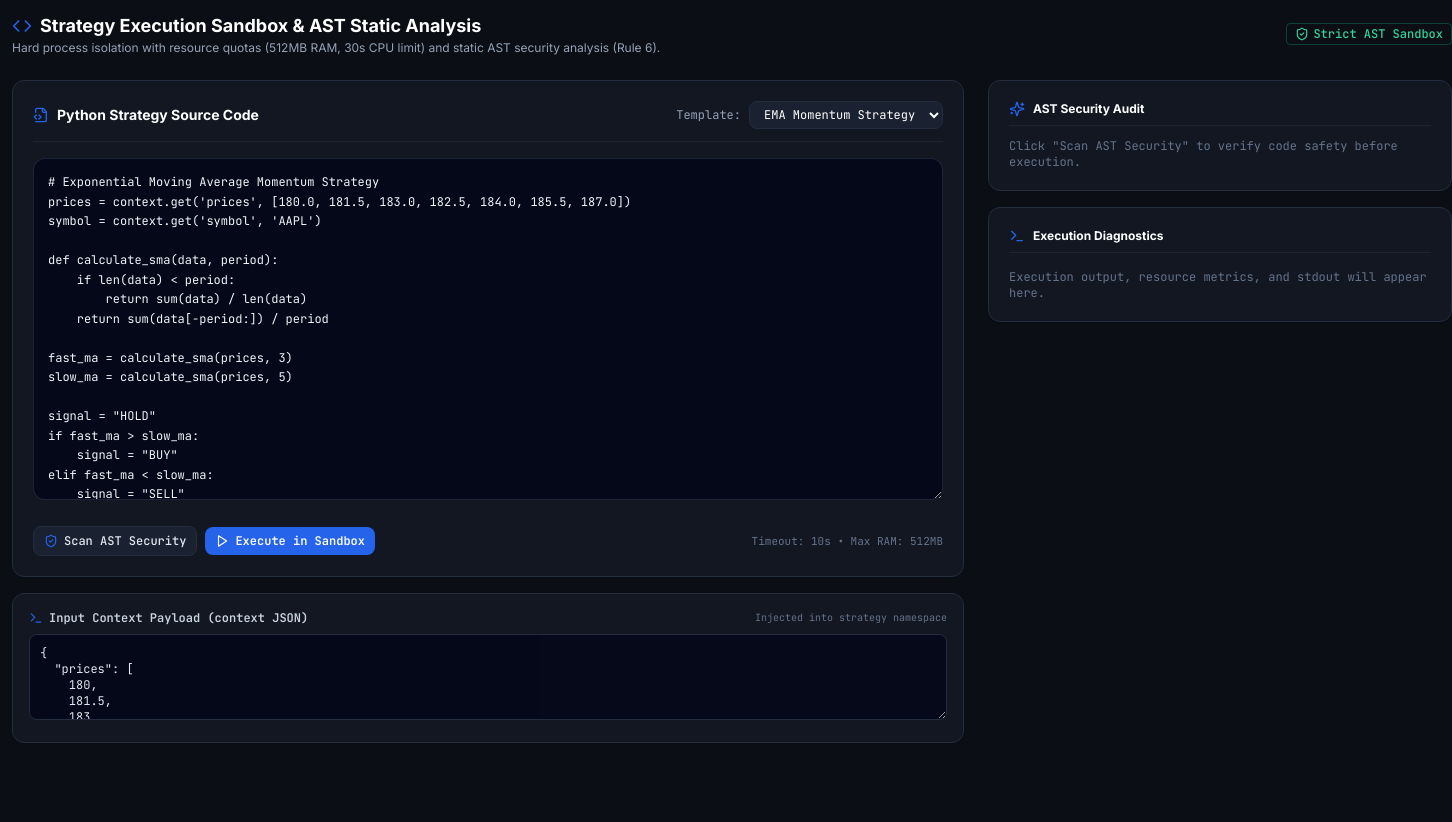
Test: StrategySandboxPage › allows executing strategy in sandbox and displaying output
This screenshot has width=1452, height=822.
What coordinates should you click on to do the following:
click the button "Execute in Sandbox"
I would click on:
 (290, 541)
Its box is [205,527,375,555].
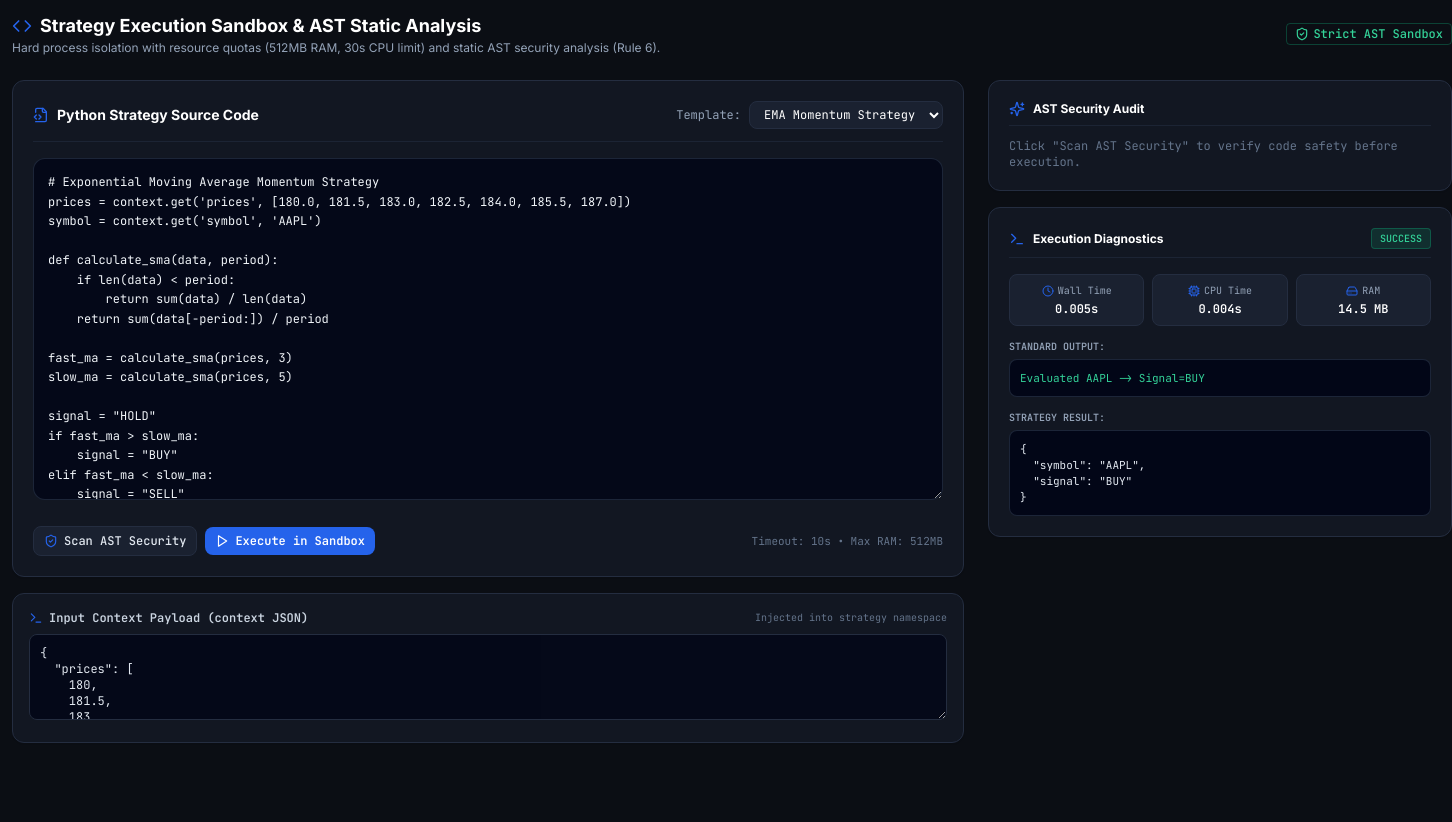
Result: the text "SUCCESS" is shown at [1371,228,1431,249]
Result: the text "Evaluated AAPL -> Signal=BUY" is shown at [1009,359,1431,397]
